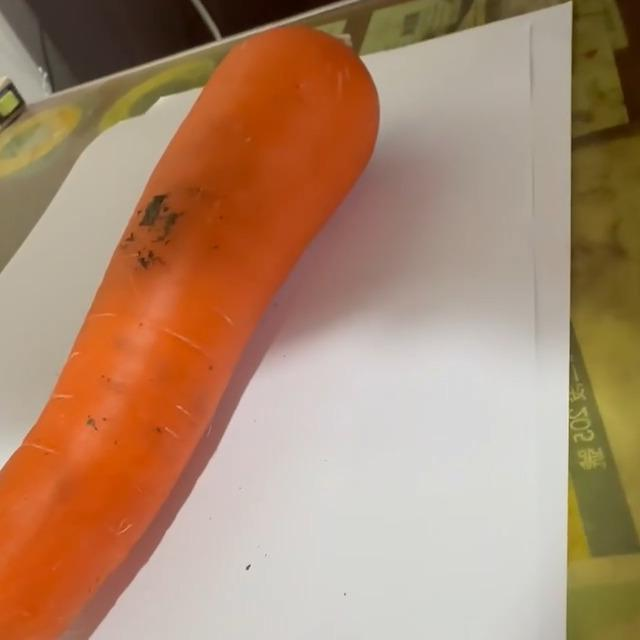carrot: (1, 23, 381, 640)
